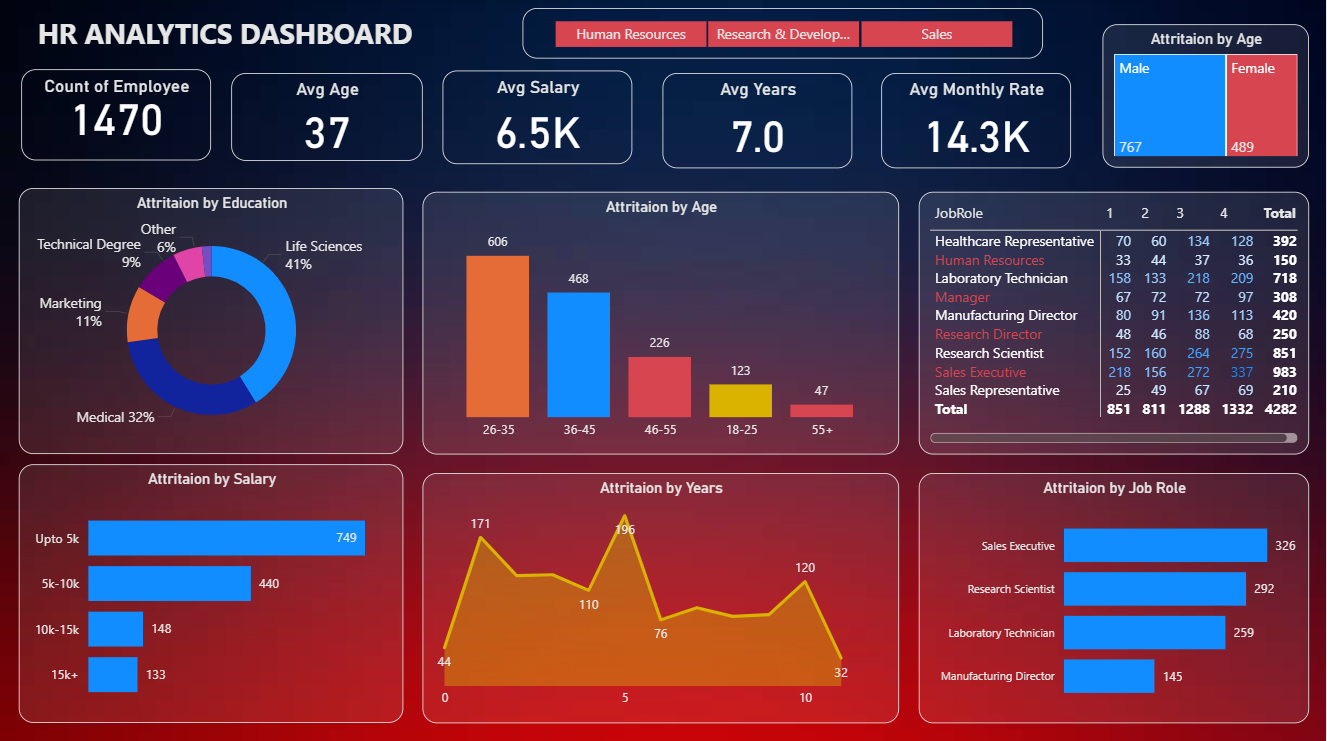

This screenshot's page, from the dashboard's own definition file:
{"tool":"powerbi","page":{"name":"Page 1","canvas":[1280,720],"ordinal":0},"visuals":[{"type":"card","title":"Count of Employee","fields":{"Values":["CountNonNull(HR_Analytics.EmpID)"]},"box":[20.5,68.8,183.4,88.1],"z":0},{"type":"card","title":"Avg Age","fields":{"Values":["Avg(HR_Analytics.Age)"]},"box":[223.2,72.4,184.6,84.5],"z":1000},{"type":"card","title":"Avg Salary","fields":{"Values":["Avg(HR_Analytics.MonthlyIncome)"]},"box":[427.1,70,183.4,90.5],"z":2000},{"type":"card","title":"Avg Years","fields":{"Values":["Avg(HR_Analytics.YearsAtCompany)"]},"box":[639.4,72.4,183.4,91.7],"z":3000},{"type":"card","title":"Avg  Monthly Rate","fields":{"Values":["Avg(HR_Analytics.MonthlyRate)"]},"box":[850.5,72.4,183.4,91.7],"z":4000},{"type":"donutChart","title":"Attritaion by Education","fields":{"Category":["HR_Analytics.EducationField"],"Y":["CountNonNull(HR_Analytics.attritionCount)"]},"box":[18.1,183.4,371.6,257],"z":5000},{"type":"clusteredColumnChart","title":"Attritaion by Age","fields":{"Category":["HR_Analytics.AgeGroup"],"Y":["CountNonNull(HR_Analytics.attritionCount)"]},"box":[407.8,187,459.7,253.4],"z":6000},{"type":"pivotTable","fields":{"Rows":["HR_Analytics.JobRole"],"Columns":["HR_Analytics.JobSatisfaction"],"Values":["Sum(HR_Analytics.Education)"]},"box":[886.7,187,376.4,253.4],"z":7000},{"type":"barChart","title":"Attritaion by Salary","fields":{"Category":["HR_Analytics.SalarySlab"],"Y":["CountNonNull(HR_Analytics.attritionCount)"]},"box":[18.1,450,371.6,249.7],"z":8000},{"type":"barChart","title":"Attritaion by Job Role","fields":{"Category":["HR_Analytics.JobRole"],"Y":["CountNonNull(HR_Analytics.attritionCount)"]},"box":[886.7,458.4,376.4,241.3],"z":9000},{"type":"areaChart","title":"Attritaion by Years","fields":{"Category":["HR_Analytics.YearsAtCompany"],"Y":["CountNonNull(HR_Analytics.attritionCount)"]},"box":[407.8,458.4,459.7,241.3],"z":10000},{"type":"treemap","title":"Attritaion by Age","fields":{"Group":["HR_Analytics.Gender"],"Values":["CountNonNull(HR_Analytics.attritionCount)"]},"box":[1064.1,25.3,199.1,138.7],"z":11000},{"type":"slicer","fields":{"Values":["HR_Analytics.Department"]},"box":[503.8,10,502.5,48.8],"z":12000},{"type":"textbox","box":[31.4,10.9,472.9,49.5],"z":13000}]}

Visuals, with their boxes in screenshot pixels (x1, y1, x2, y2), scaled from the page's 1280x720 canvas onto the 1327x741 screenshot:
"Count of Employee" card: locate(21, 71, 211, 161)
"Avg Age" card: locate(231, 75, 423, 161)
"Avg Salary" card: locate(443, 72, 633, 165)
"Avg Years" card: locate(663, 75, 853, 169)
"Avg  Monthly Rate" card: locate(882, 75, 1072, 169)
"Attritaion by Education" donutChart: locate(19, 189, 404, 453)
"Attritaion by Age" clusteredColumnChart: locate(423, 192, 899, 453)
pivotTable - HR_Analytics.JobRole x HR_Analytics.JobSatisfaction: locate(919, 192, 1309, 453)
"Attritaion by Salary" barChart: locate(19, 463, 404, 720)
"Attritaion by Job Role" barChart: locate(919, 472, 1309, 720)
"Attritaion by Years" areaChart: locate(423, 472, 899, 720)
"Attritaion by Age" treemap: locate(1103, 26, 1310, 169)
slicer - HR_Analytics.Department: locate(522, 10, 1043, 61)
textbox: locate(33, 11, 523, 62)
